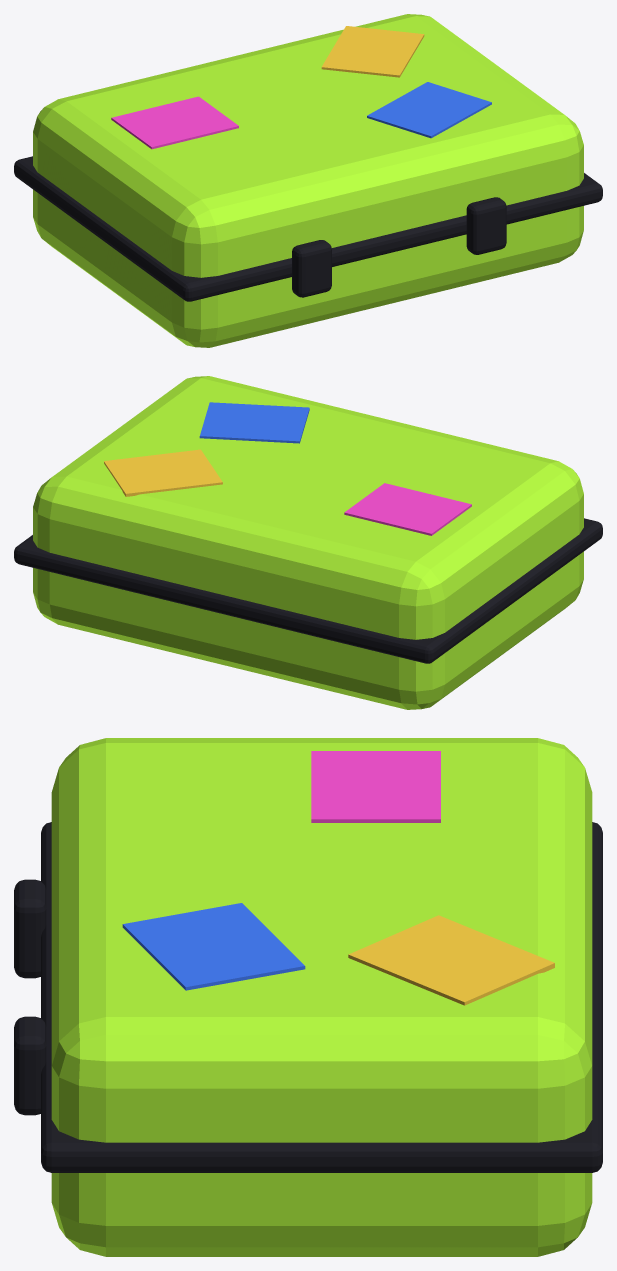
File: Trash_Suitcase.fbx
3 views of the same model, one above another, from view 1: azimuth 30°, elevation 25°; view 2: azimuth 150°, elevation 25°; view 3: azimuth 270°, elevation 25° (orthographic). The views are drawn at different scales.
Visible parts, largest first — view 1: Trash_Suitcase; view 2: Trash_Suitcase; view 3: Trash_Suitcase.
Part boxes in pixels (x1,y1,x2,y2): Trash_Suitcase: (14, 14, 602, 347); Trash_Suitcase: (14, 376, 602, 709); Trash_Suitcase: (14, 738, 602, 1256).
Bounding box in the file's own units: 0.72 × 0.2435 × 0.545.
